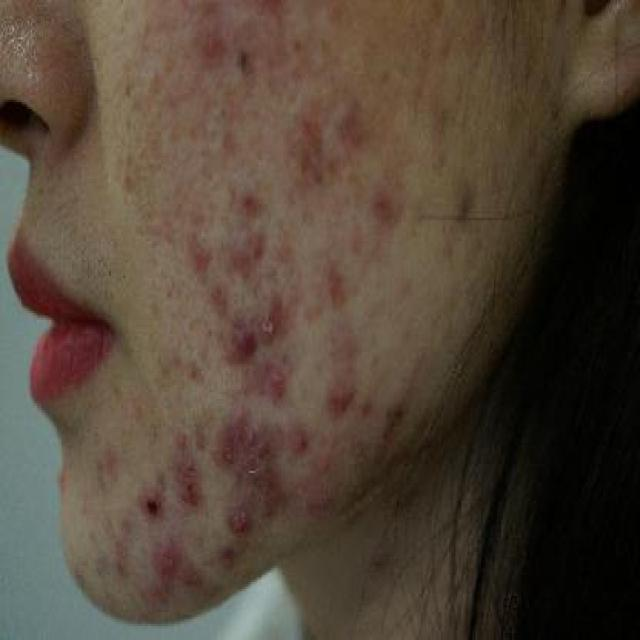Acne: (442, 172, 484, 236), (363, 171, 406, 232), (191, 16, 234, 72), (317, 373, 363, 420), (225, 311, 263, 364), (332, 91, 368, 146), (228, 170, 264, 220), (186, 228, 217, 278), (155, 528, 183, 580), (224, 503, 256, 543), (257, 304, 283, 348), (236, 232, 258, 274)
Blackheads: (131, 475, 171, 529)
